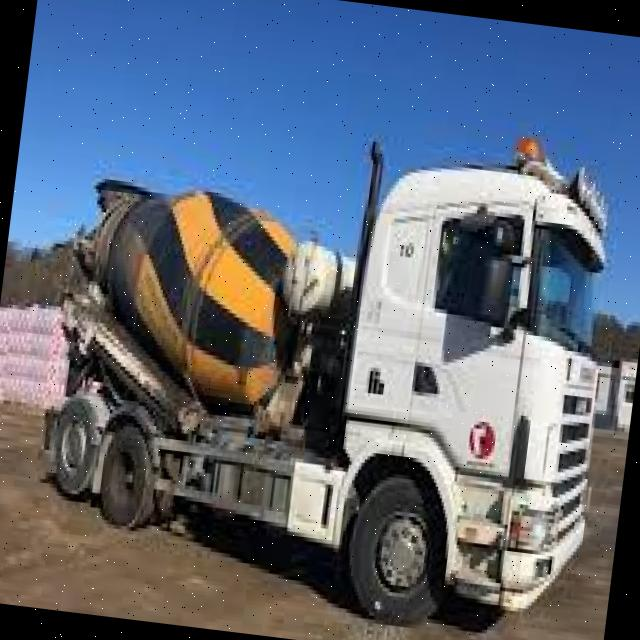Mixer Truck: (18, 76, 636, 640)
